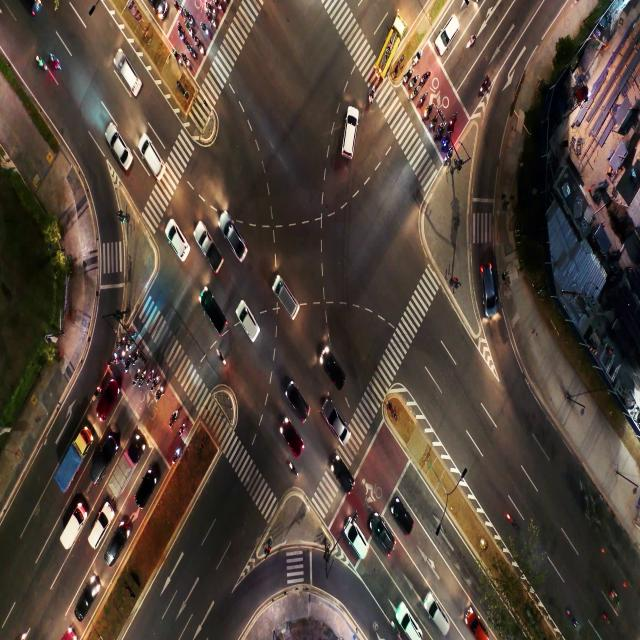bus: (381, 30, 396, 70)
car: (479, 256, 500, 315), (342, 106, 360, 155), (102, 120, 126, 154), (437, 17, 457, 57), (222, 218, 245, 252), (113, 56, 139, 86), (275, 277, 294, 318), (344, 519, 364, 551), (166, 226, 183, 262), (200, 292, 218, 324), (326, 356, 345, 386), (142, 144, 158, 178), (289, 386, 308, 414), (80, 586, 97, 617), (240, 307, 257, 336), (429, 603, 447, 629), (333, 456, 347, 488), (285, 425, 301, 450), (401, 608, 416, 634), (392, 498, 407, 524), (470, 614, 486, 638), (377, 522, 389, 553), (112, 532, 125, 560), (326, 405, 338, 435), (96, 460, 108, 480), (139, 479, 151, 499), (96, 516, 105, 540), (102, 394, 110, 411)
motorcycle: (37, 55, 47, 71), (478, 78, 489, 92), (368, 86, 376, 103), (290, 463, 299, 478), (467, 35, 476, 49), (217, 351, 226, 365), (52, 50, 58, 70), (449, 113, 457, 127), (170, 410, 176, 427), (422, 72, 429, 86), (174, 448, 179, 466), (158, 386, 165, 398), (148, 371, 155, 383), (110, 352, 116, 366), (446, 150, 452, 163), (134, 368, 140, 381), (444, 135, 451, 146), (92, 385, 99, 396), (431, 117, 437, 129), (413, 88, 421, 97), (119, 352, 125, 364), (173, 52, 180, 62), (427, 107, 433, 118), (208, 16, 214, 27), (202, 26, 209, 35), (420, 98, 425, 110), (410, 79, 420, 85), (152, 377, 157, 389), (184, 57, 190, 67), (217, 3, 222, 14), (135, 351, 139, 364), (438, 126, 443, 136), (125, 361, 130, 371), (129, 336, 133, 348), (197, 41, 203, 49), (415, 55, 420, 64), (180, 421, 183, 436), (141, 373, 145, 384), (120, 336, 124, 347), (180, 30, 185, 38), (406, 73, 411, 80), (185, 11, 190, 18), (175, 2, 179, 10), (188, 45, 192, 52), (209, 7, 213, 13), (190, 29, 193, 36)
truck: (200, 225, 215, 268), (122, 447, 133, 487), (64, 515, 78, 546), (65, 445, 76, 482)
